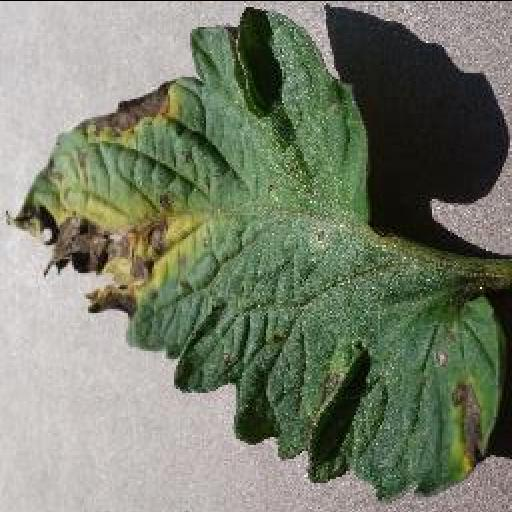disease_tomato: (16, 8, 506, 496)
